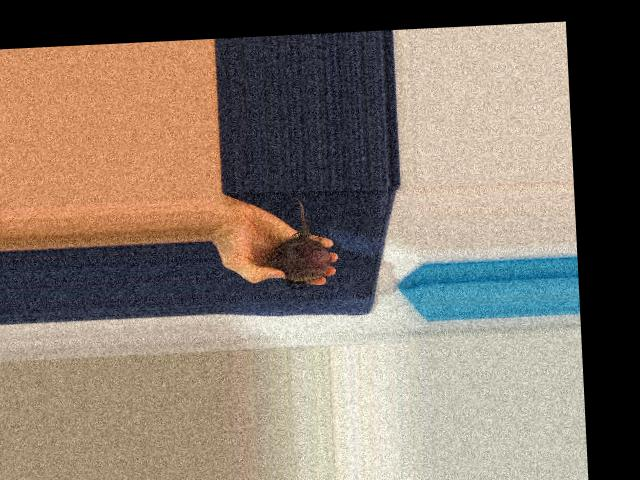beet: (269, 195, 332, 289)
